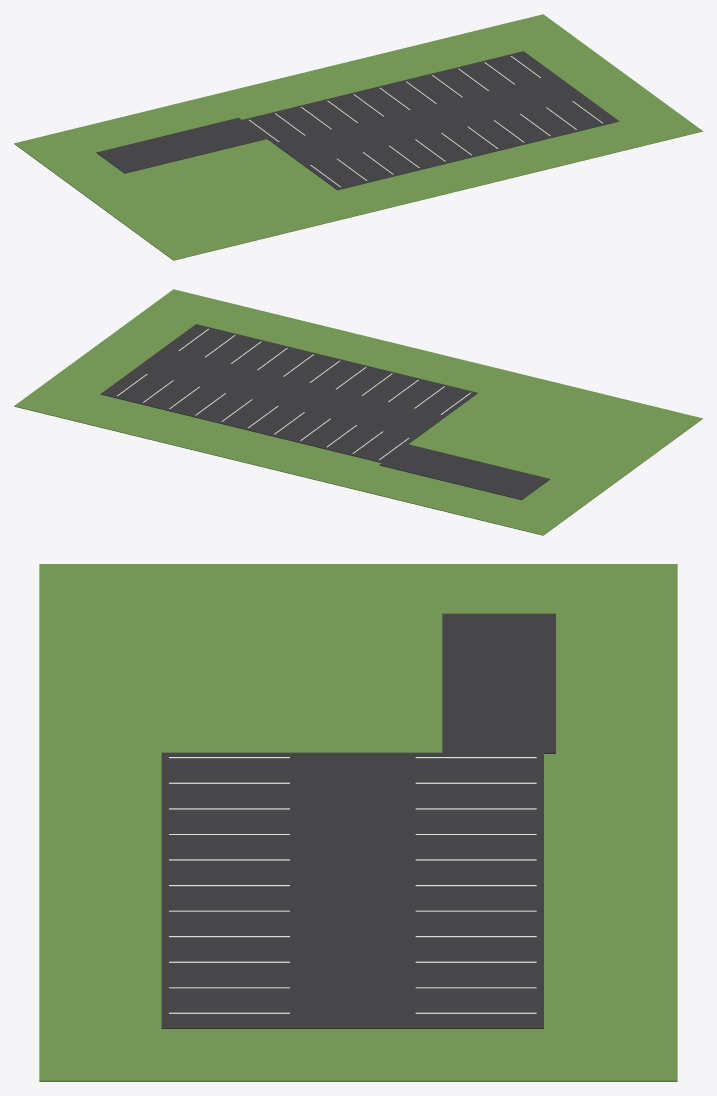
File: parqueadero.glb
The picture shows the model from 3 angles, top to bottom: view 1: azimuth 30°, elevation 25°; view 2: azimuth 150°, elevation 25°; view 3: azimuth 270°, elevation 25°; orthographic projection. The views are drawn at different scales.
Parts seen in each view (by area): view 1: Parqueadero; view 2: Parqueadero; view 3: Parqueadero.
Boxes of the visible parts, bbox=[...] form: Parqueadero: bbox=[14, 14, 702, 260]; Parqueadero: bbox=[14, 289, 702, 535]; Parqueadero: bbox=[39, 564, 677, 1081].
Bounding box in the file's own units: 50.53 × 0.11 × 26.38.
